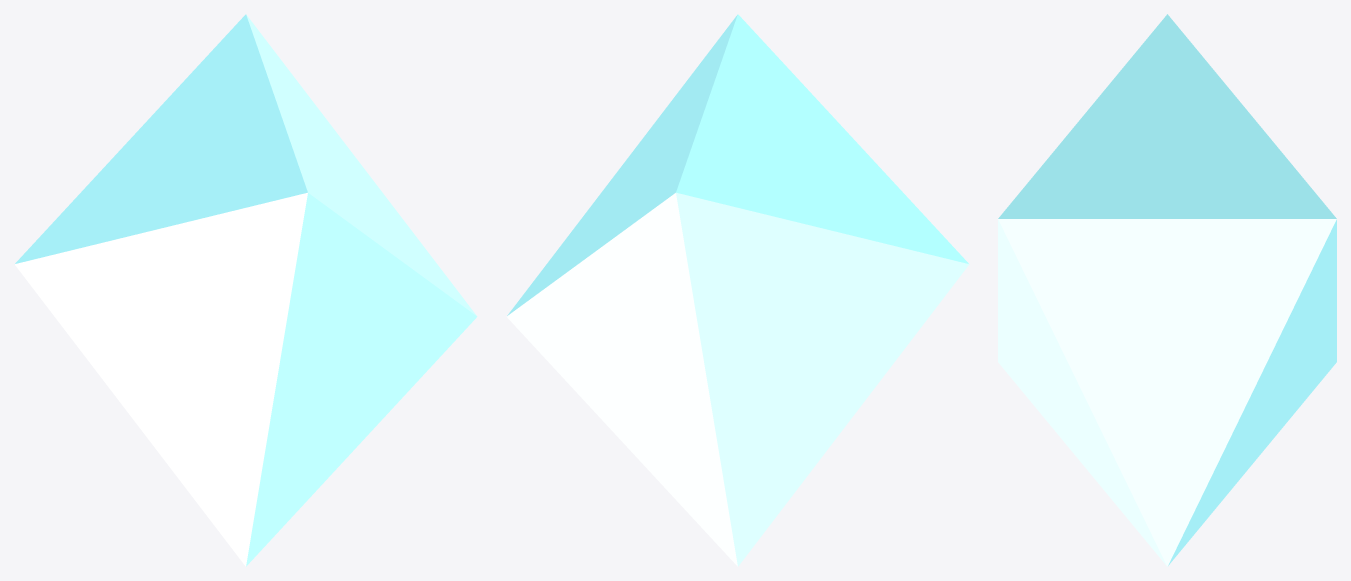
Rendered from aether_riftblade.glb.
3 renders of one model, left to right at view 1: azimuth 30°, elevation 25°; view 2: azimuth 150°, elevation 25°; view 3: azimuth 270°, elevation 25°, orthographic.
Visible parts, largest first — view 1: Pelvis; view 2: Pelvis; view 3: Pelvis.
Part boxes in pixels (box(x1,y1,x2,y2)): Pelvis: box(14, 14, 477, 566); Pelvis: box(506, 14, 969, 566); Pelvis: box(998, 14, 1336, 566).
Size of the model in its own units: 1 by 1.8 by 1.
